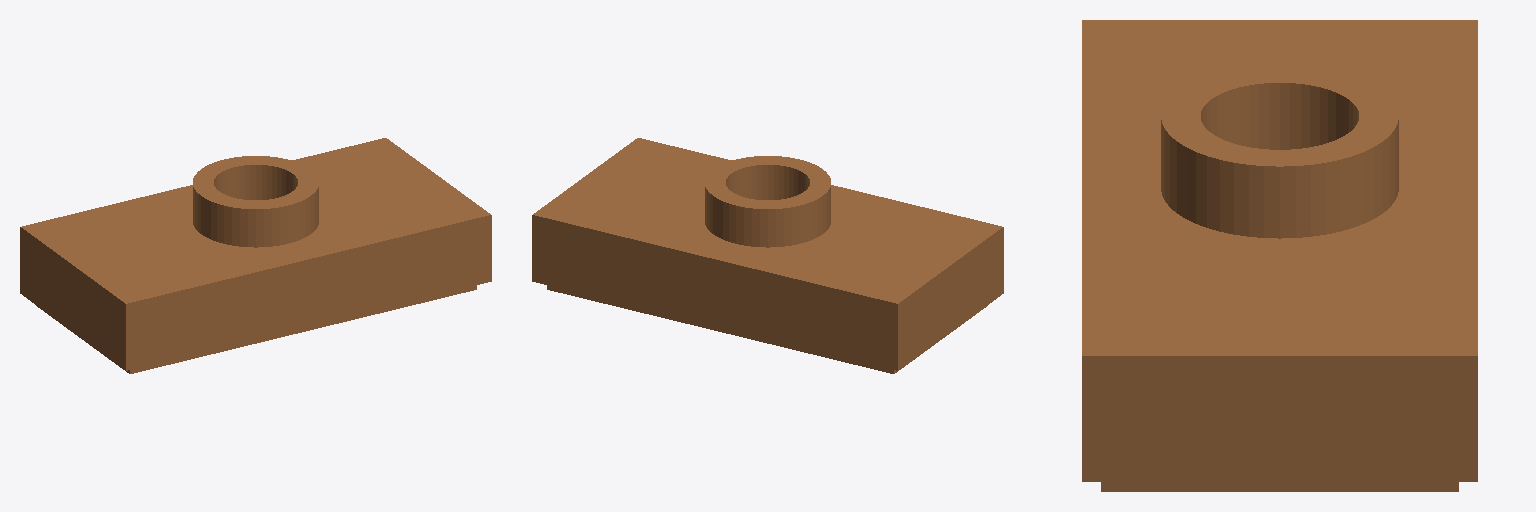
robot.urdf — 15573__medium_nougat:
<?xml version="1.0"?>
<robot name="15573__medium_nougat">
  <link name="15573__medium_nougat">
    <inertial>
      <origin xyz="-0.000000 0.000000 -0.001128" rpy="0 0 0"/>
      <mass value="0.000540"/>
      <inertia ixx="3.490363747e-09" ixy="2.650572642e-26" ixz="-1.016089792e-26" iyy="1.124910040e-08" iyz="-0.000000000e+00" izz="1.313551019e-08"/>
    </inertial>
    <visual>
      <geometry>
        <mesh filename="../meshes/visual/15573.obj" scale="1 1 1"/>
      </geometry>
      <material name="15573__medium_nougat_color">
        <color rgba="0.680 0.480 0.310 1.000"/>
      </material>
    </visual>
    <collision>
      <geometry>
        <mesh filename="../meshes/collision/15573_hull.obj" scale="1 1 1"/>
      </geometry>
    </collision>
  </link>
</robot>

--- Render facts (derived) ---
Views: 3 orthographic renders of the robot side by side, from view 1: azimuth 30°, elevation 25°; view 2: azimuth 150°, elevation 25°; view 3: azimuth 270°, elevation 25°.
Robot: 15573__medium_nougat — 1 links, 0 joints (none); root link 15573__medium_nougat; default pose: every joint at zero.
Visible links, largest first — view 1: 15573__medium_nougat; view 2: 15573__medium_nougat; view 3: 15573__medium_nougat.
Link boxes in pixels (x1,y1,x2,y2): 15573__medium_nougat: (20, 138, 491, 373); 15573__medium_nougat: (532, 138, 1003, 373); 15573__medium_nougat: (1082, 20, 1477, 491).
Size in the robot's own frame: 0.016 by 0.008 by 0.0048 metres.
Meshes: 1 distinct files referenced, 1 mesh visuals loaded (1 OBJ).
